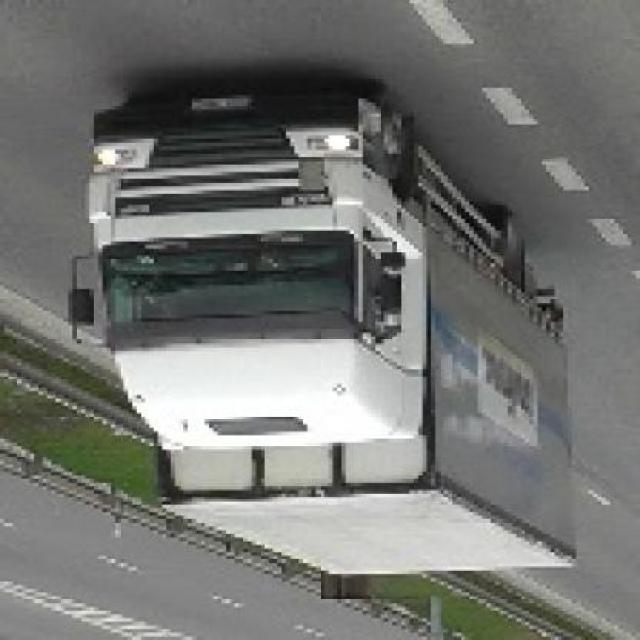truck: (70, 82, 577, 586)
